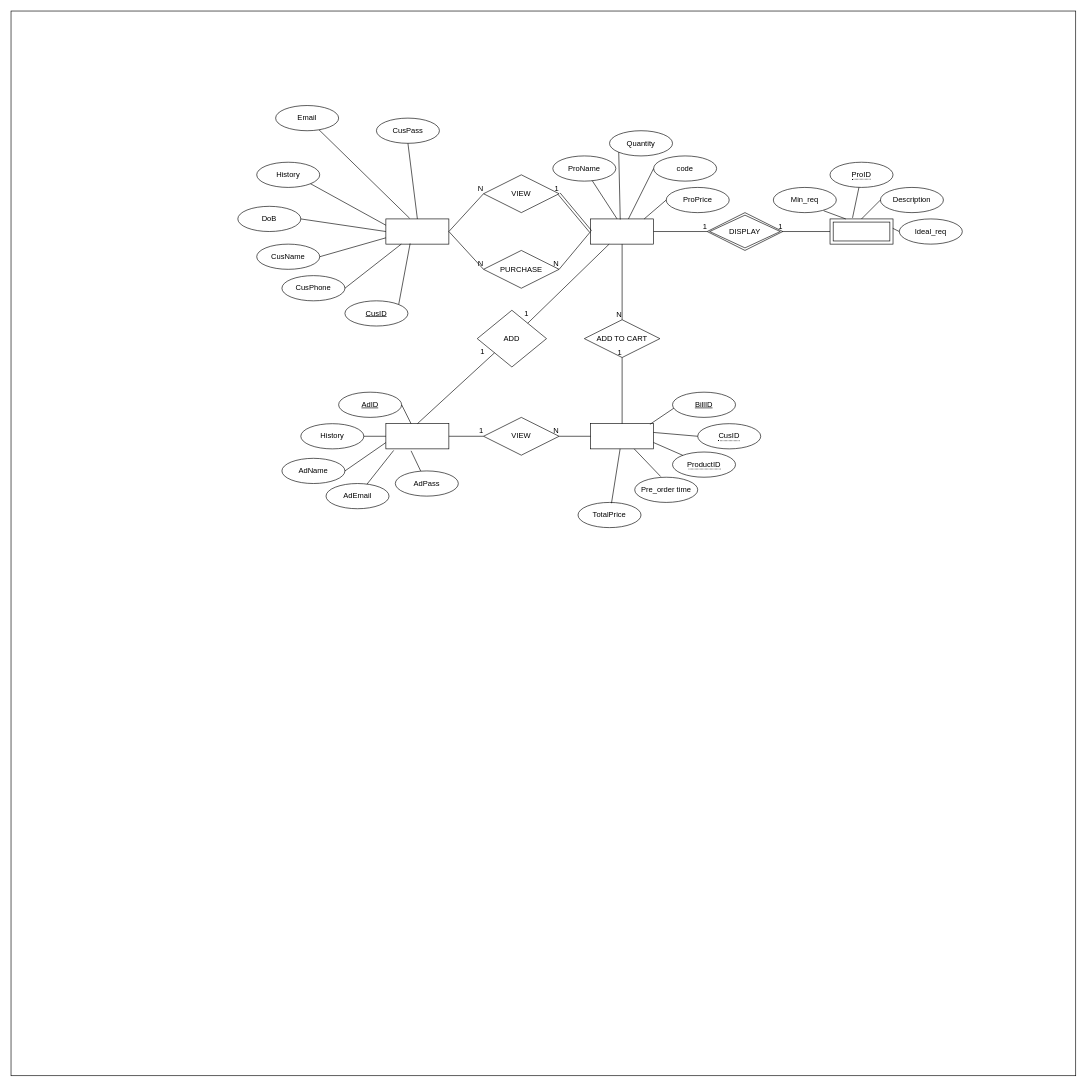
The diagram is 1087 pixels wide and 1087 high, and some of its shapes have lost their labels. Here are the shapes that lost their labels. From the top down, the centre of each, then its label:
At (x=417, y=231): "CUSTOMER".
At (x=622, y=231): "PRODUCT".
At (x=861, y=231): "DES".
At (x=417, y=436): "ADMIN".
At (x=622, y=436): "BILLING".
